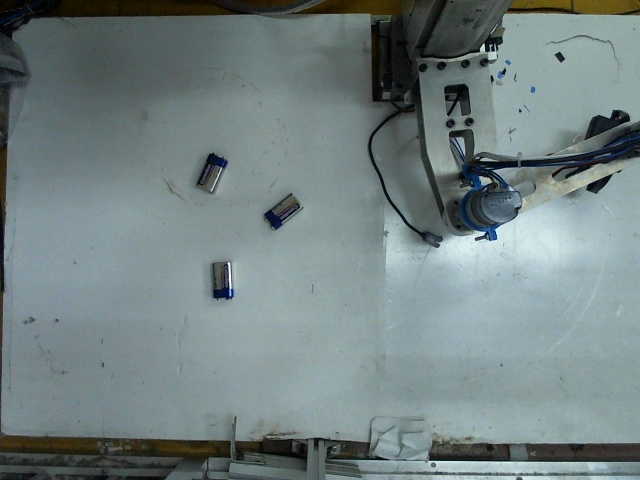battery: (261, 187, 300, 227), (209, 254, 236, 302), (194, 149, 225, 190)
